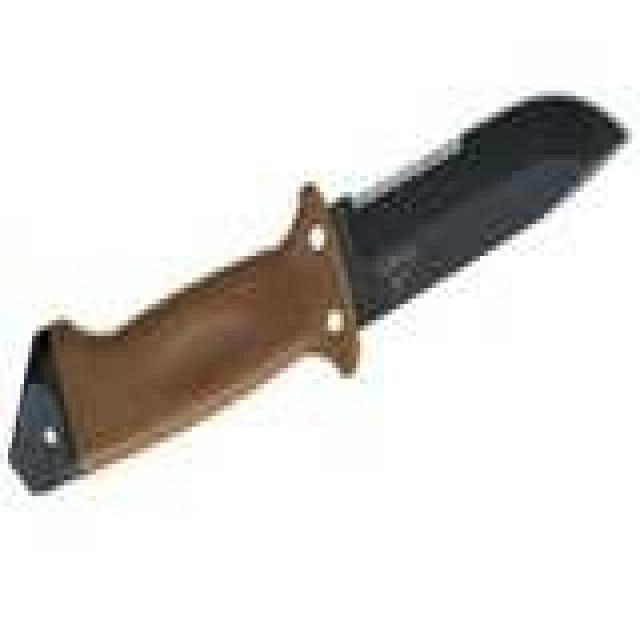Knife: (25, 70, 640, 591)
